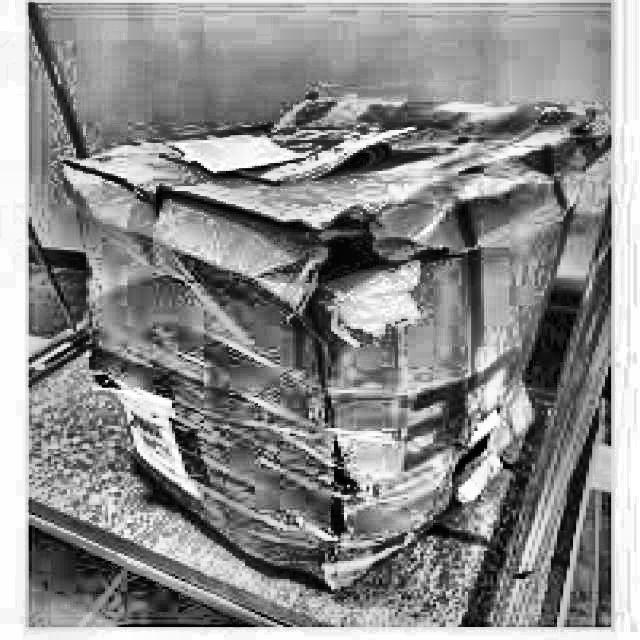box: (46, 89, 600, 602)
hole: (282, 214, 408, 326), (323, 442, 355, 548)
